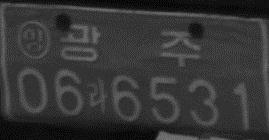0: (16, 66, 48, 114)
1: (227, 81, 256, 131)
3: (187, 78, 220, 127)
5: (149, 75, 180, 125)
6: (110, 73, 141, 123), (54, 69, 84, 118)
광주_D: (60, 23, 201, 67)
라: (85, 77, 109, 116)
영: (17, 19, 51, 61)
